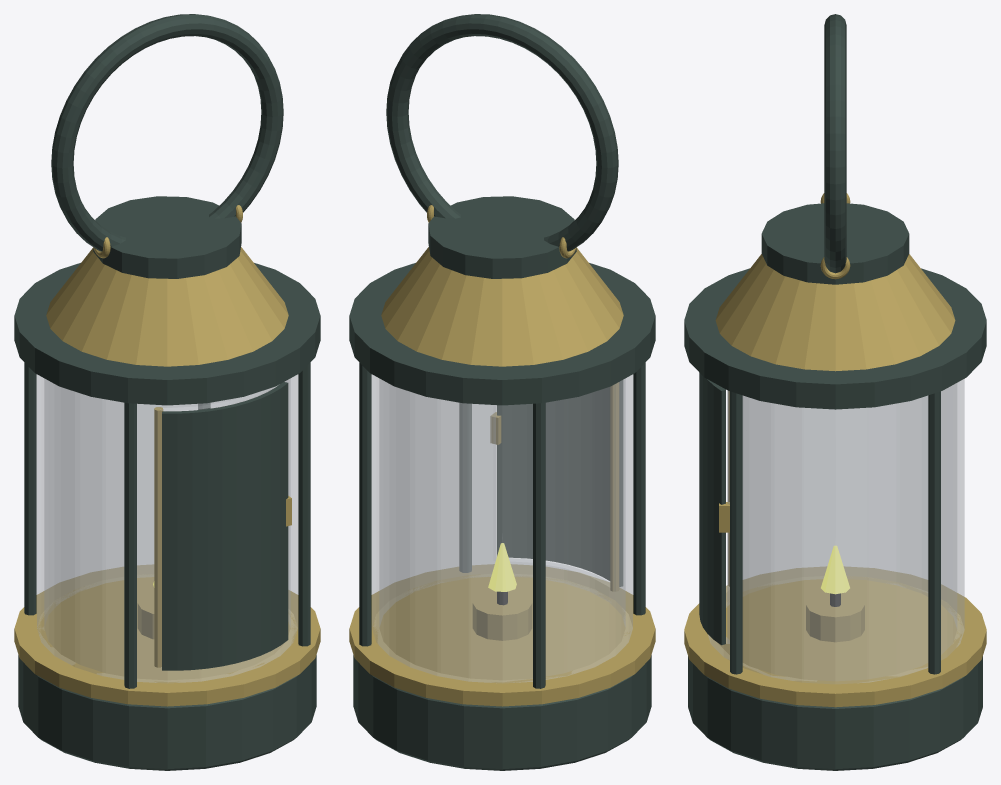
Rendered from lantern.fbx.
3 views of the same model, side by side, from view 1: azimuth 30°, elevation 25°; view 2: azimuth 150°, elevation 25°; view 3: azimuth 270°, elevation 25° (orthographic).
Visible parts, largest first — view 1: Lantern_Glass, Lantern_Door, Lantern_Base_BrassRing, Lantern_Chimney, Lantern_Body, Lantern_Top, Lantern_Handle, Lantern_TopDome, Lantern_FramePillar_3, Lantern_FramePillar_4, Lantern_FramePillar_2, Lantern_HingePin (+1 smaller); view 2: Lantern_Glass, Lantern_Base_BrassRing, Lantern_Chimney, Lantern_Body, Lantern_Door, Lantern_Top, Lantern_Handle, Lantern_TopDome, Lantern_FramePillar_2, Lantern_FramePillar_1, Lantern_FramePillar_3, Lantern_WickBase (+3 smaller); view 3: Lantern_Glass, Lantern_Base_BrassRing, Lantern_Chimney, Lantern_Body, Lantern_Top, Lantern_TopDome, Lantern_Door, Lantern_Handle, Lantern_FramePillar_1, Lantern_FramePillar_4, Lantern_WickBase, Lantern_Flame.
Part boxes in pixels (bbox=[...]): Lantern_Glass: bbox=[37, 374, 297, 683]; Lantern_Door: bbox=[162, 382, 288, 670]; Lantern_Base_BrassRing: bbox=[14, 564, 320, 706]; Lantern_Chimney: bbox=[46, 247, 288, 366]; Lantern_Body: bbox=[18, 655, 316, 770]; Lantern_Top: bbox=[14, 263, 320, 405]; Lantern_Handle: bbox=[51, 14, 283, 251]; Lantern_TopDome: bbox=[93, 196, 241, 278]; Lantern_FramePillar_3: bbox=[124, 402, 136, 688]; Lantern_FramePillar_4: bbox=[298, 362, 310, 646]; Lantern_FramePillar_2: bbox=[24, 362, 36, 615]; Lantern_HingePin: bbox=[154, 407, 163, 667]; Lantern_Glass: bbox=[372, 374, 632, 683]; Lantern_Base_BrassRing: bbox=[349, 564, 655, 706]; Lantern_Chimney: bbox=[381, 247, 623, 366]; Lantern_Body: bbox=[353, 655, 651, 770]; Lantern_Door: bbox=[497, 380, 622, 586]; Lantern_Top: bbox=[349, 263, 655, 405]; Lantern_Handle: bbox=[386, 14, 618, 251]; Lantern_TopDome: bbox=[428, 196, 576, 278]; Lantern_FramePillar_2: bbox=[533, 402, 545, 688]; Lantern_FramePillar_1: bbox=[359, 362, 371, 646]; Lantern_FramePillar_3: bbox=[633, 362, 645, 615]; Lantern_WickBase: bbox=[472, 591, 532, 640]; Lantern_Glass: bbox=[708, 379, 964, 683]; Lantern_Base_BrassRing: bbox=[684, 566, 986, 707]; Lantern_Chimney: bbox=[715, 254, 955, 371]; Lantern_Body: bbox=[688, 656, 982, 770]; Lantern_Top: bbox=[684, 268, 986, 409]; Lantern_TopDome: bbox=[761, 203, 909, 284]; Lantern_Door: bbox=[699, 373, 725, 645]; Lantern_Handle: bbox=[824, 14, 846, 273]; Lantern_FramePillar_1: bbox=[928, 391, 940, 674]; Lantern_FramePillar_4: bbox=[730, 391, 742, 674]; Lantern_WickBase: bbox=[806, 593, 864, 642]; Lantern_Flame: bbox=[821, 545, 849, 594].
Bounding box in the file's own units: 16.4 × 40.9 × 16.4.
